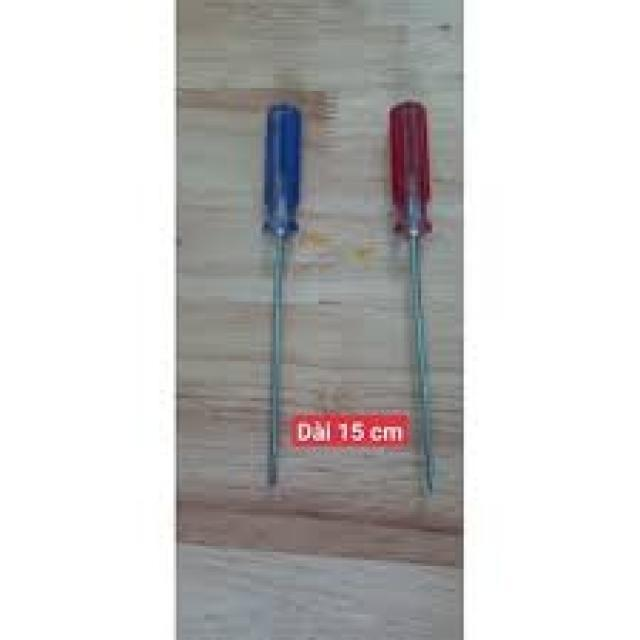screwdriver: (388, 100, 439, 498), (262, 97, 304, 490)
